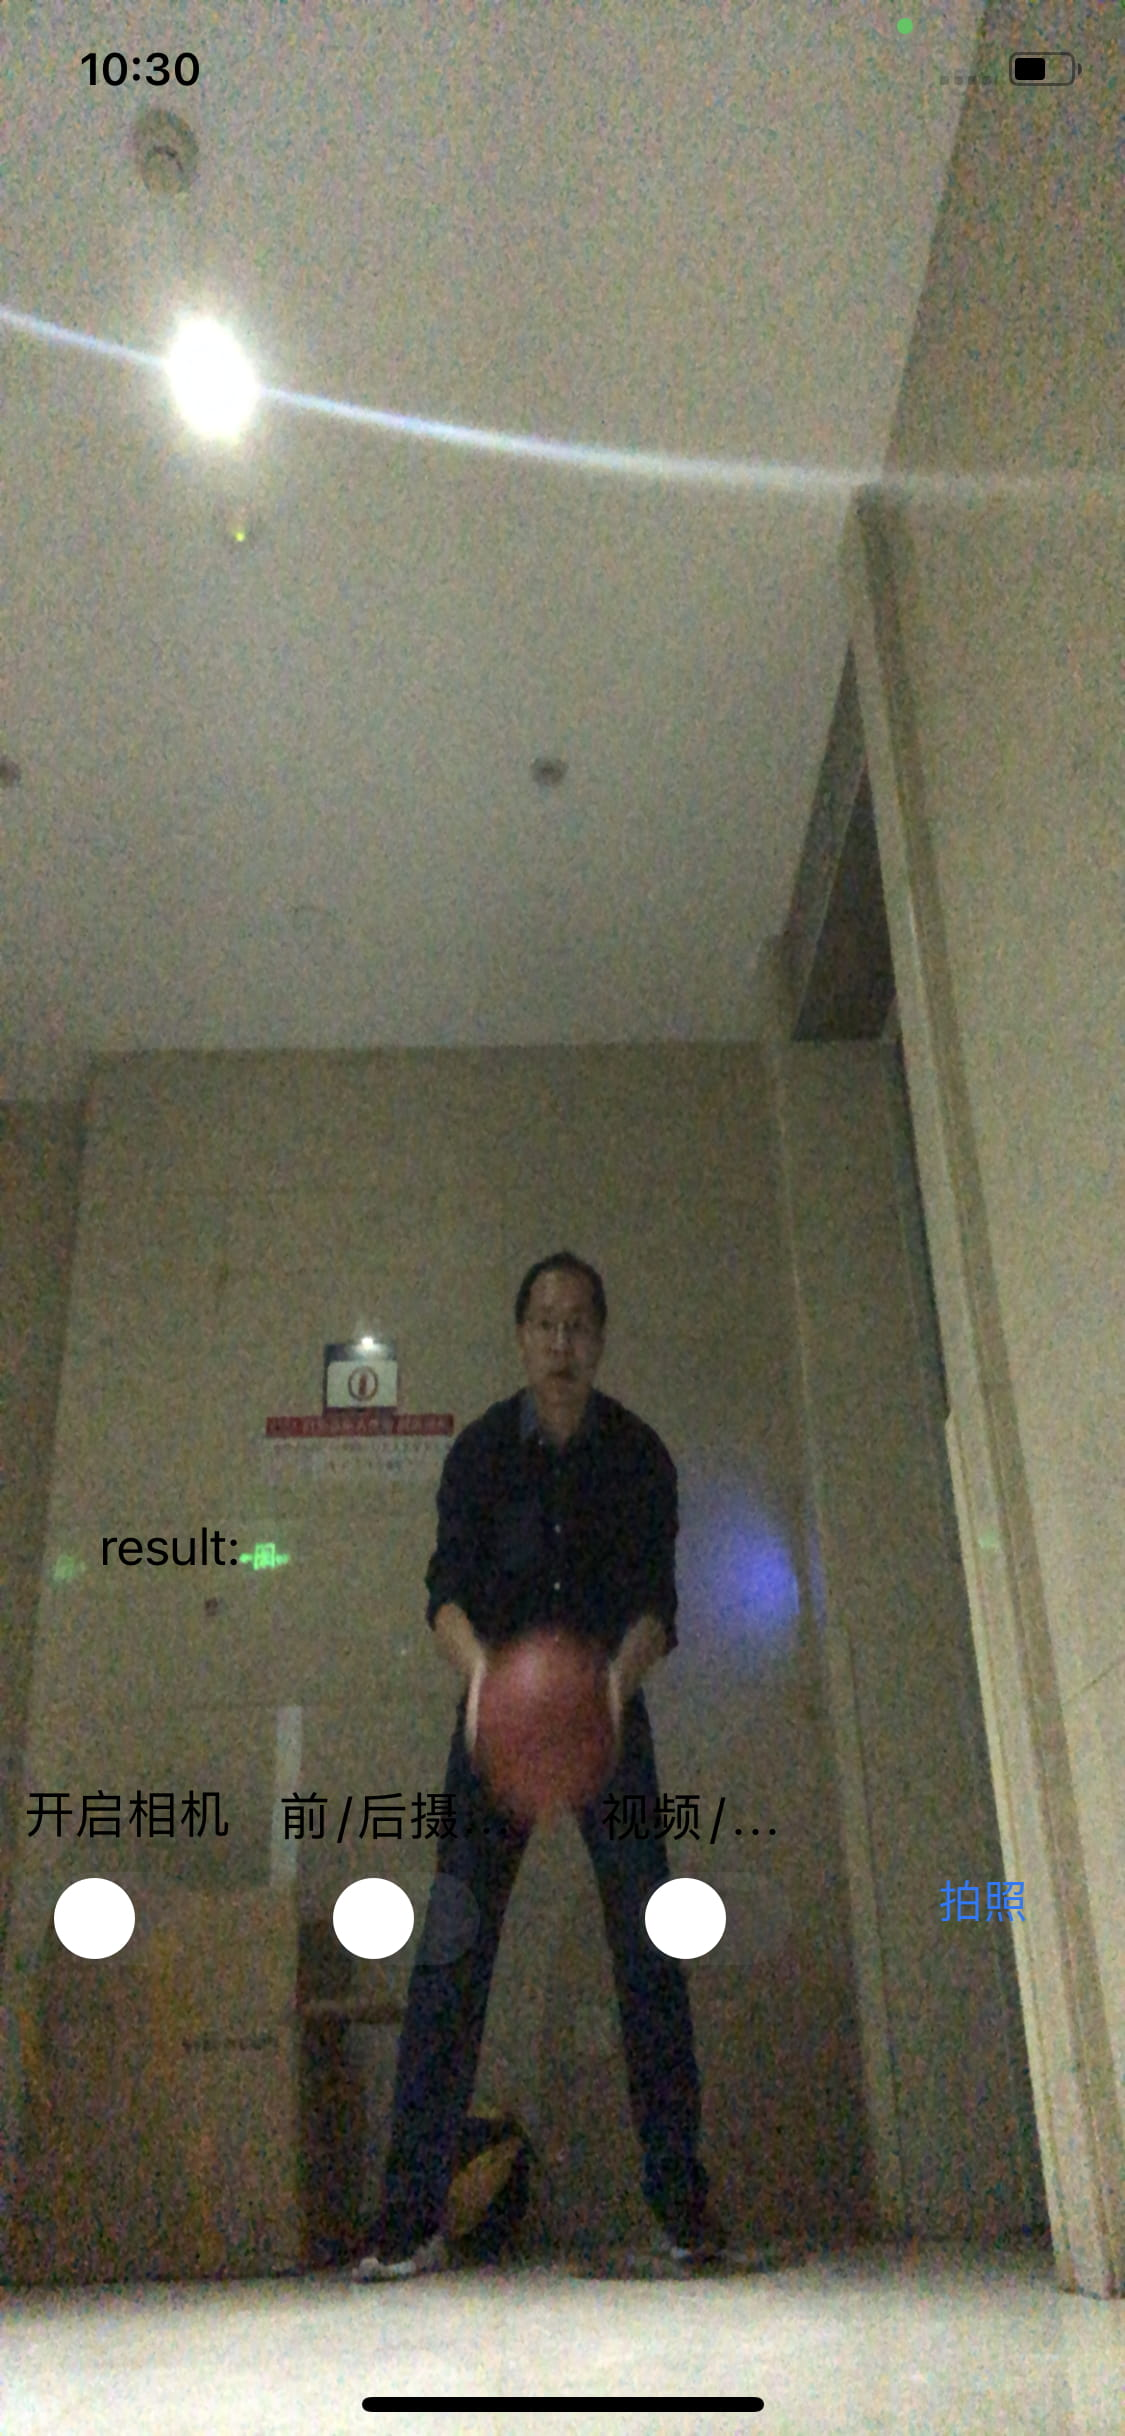ball: (468, 1633, 628, 1807)
